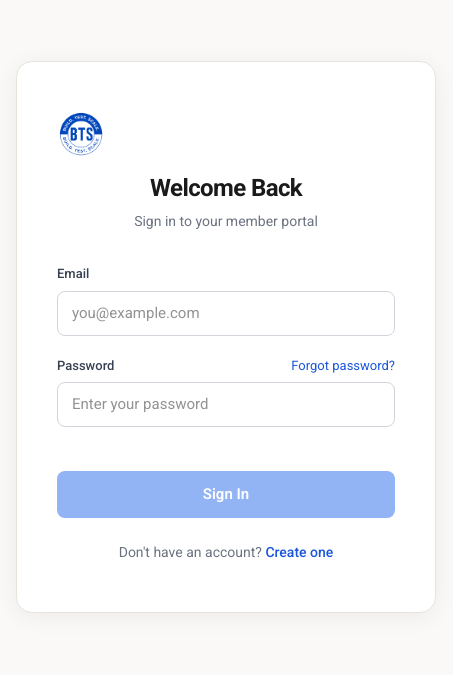
Test: Login — captcha failure resilience › does not allow submission when the widget is present but unsolved (normal path)
Type "member@example.com" into the field with placeholder "you@example.com".
click(226, 313); type("member@example.com")  # box [57,290,395,336]
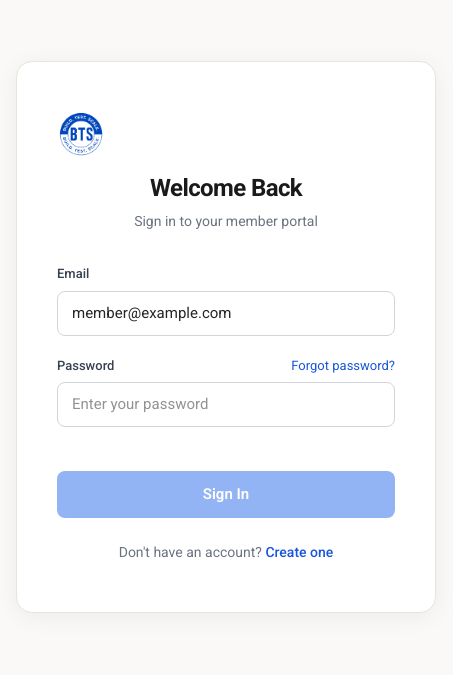
Type "hunter2" into the password field with placeholder "Enter your password".
click(226, 405); type("hunter2")  # box [57,382,395,427]
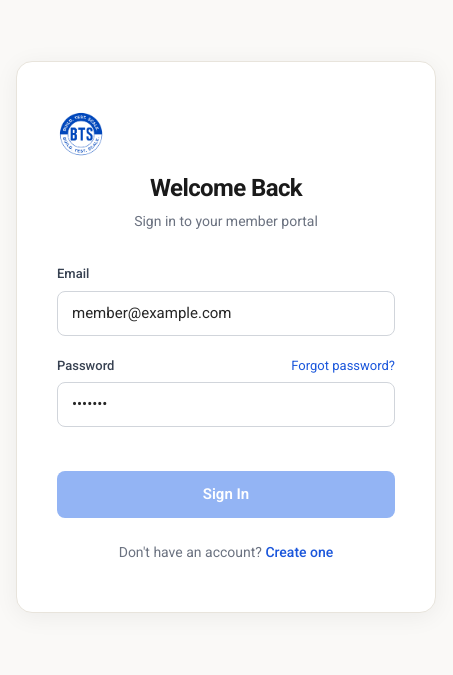
Submit the form "Email Password Forgot password? Sign In", box [57,264,395,518]
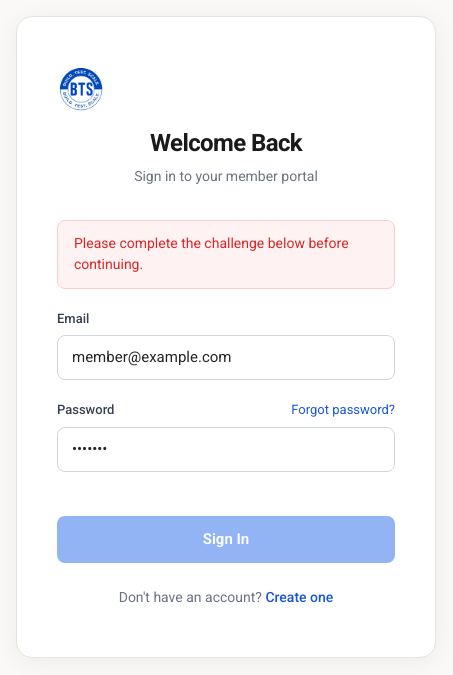
Expected: the text "Please complete the challenge below before continuing." is shown, [57,220,395,289]
